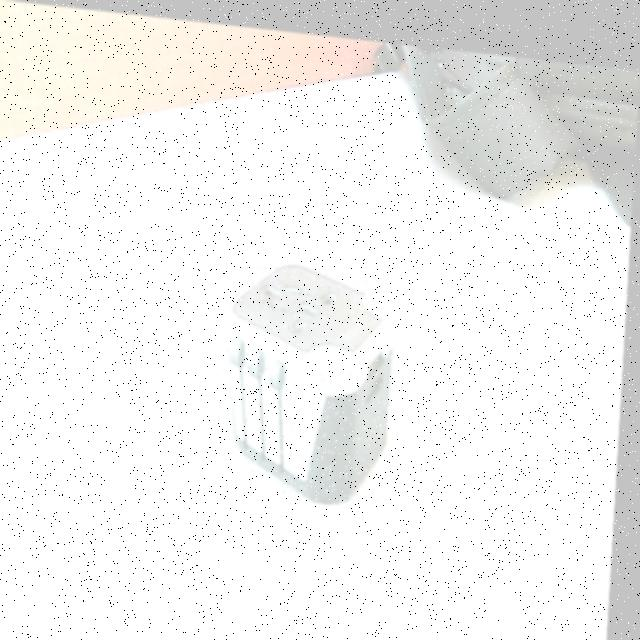adapter: (219, 245, 402, 501)
